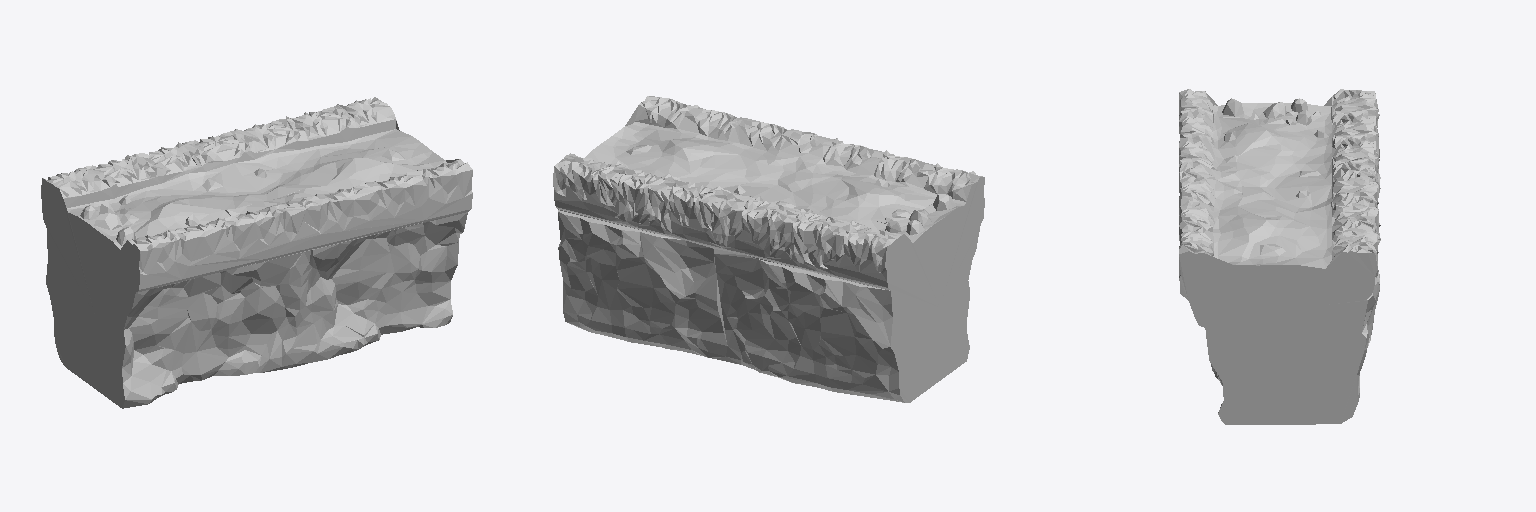
The picture shows the model from 3 angles: view 1: azimuth 30°, elevation 25°; view 2: azimuth 150°, elevation 25°; view 3: azimuth 270°, elevation 25°; orthographic projection.
Visible parts, largest first — view 1: base5_low:Group40355; view 2: base5_low:Group40355; view 3: base5_low:Group40355.
Boxes of the visible parts, box(x1,y1,x2,y2) form: base5_low:Group40355: box(41, 97, 472, 408); base5_low:Group40355: box(553, 96, 984, 402); base5_low:Group40355: box(1179, 89, 1380, 424).
Size of the model in its own units: 98.44 by 50.03 by 51.9.